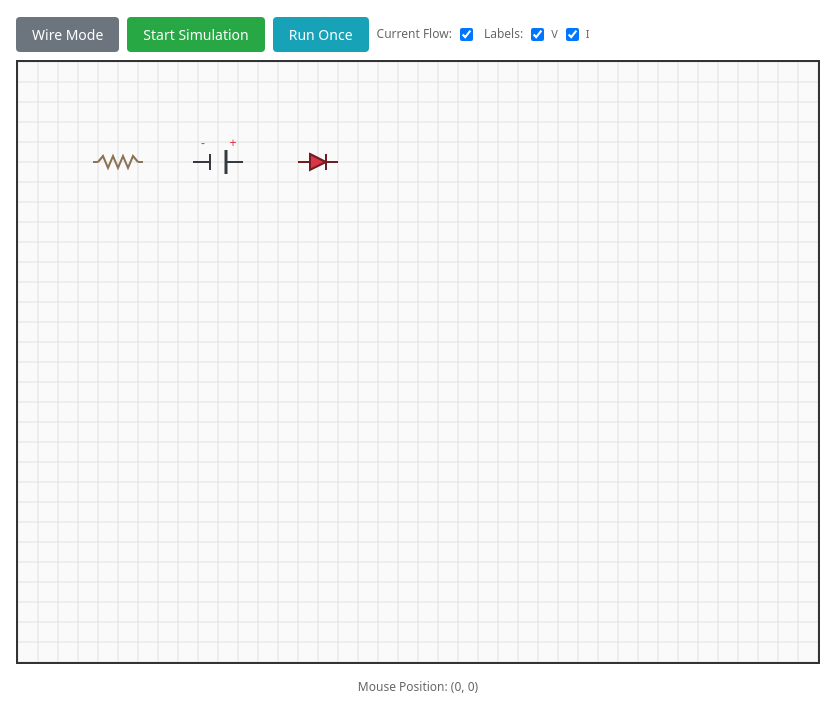
Test: CircuitBoard Wire Connection Integration › should toggle wire mode when button is clicked
The width and height of the screenshot is (837, 710).
# Click to enter wire mode
Click the button with test id "wire-mode-toggle" at (68, 34), box [16,16,119,52]
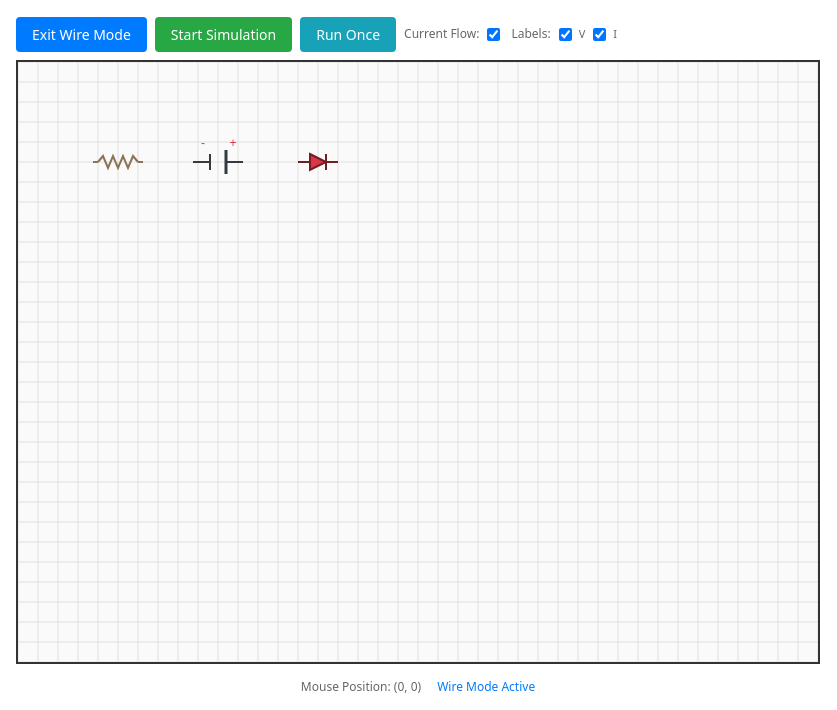
Check: the button with test id "wire-mode-toggle" reads "Exit Wire Mode"
# Click to exit wire mode
Click the button with test id "wire-mode-toggle" at (81, 34), box [16,16,147,52]
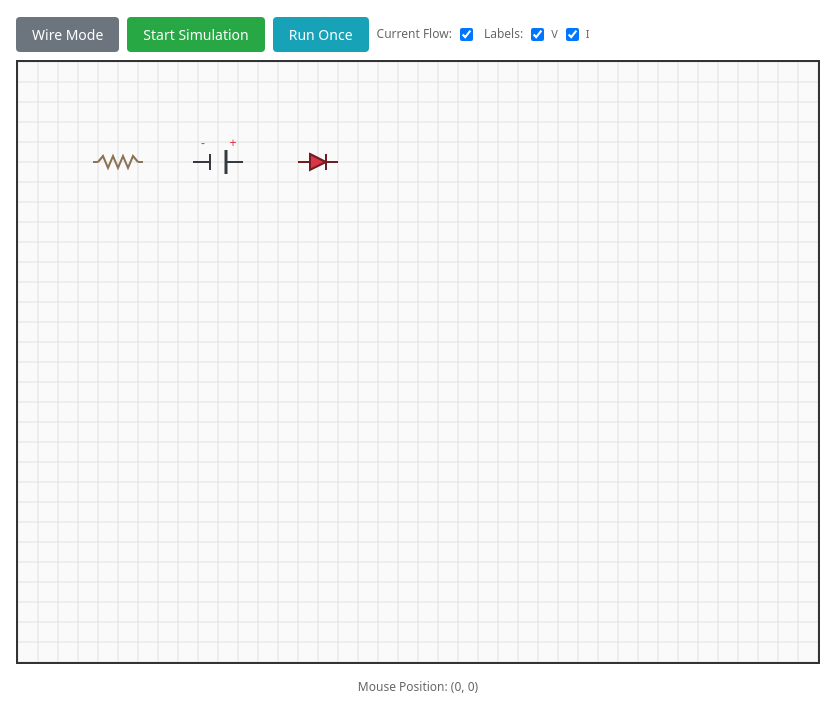
Check: the button with test id "wire-mode-toggle" reads "Wire Mode", box [16,16,119,52]
